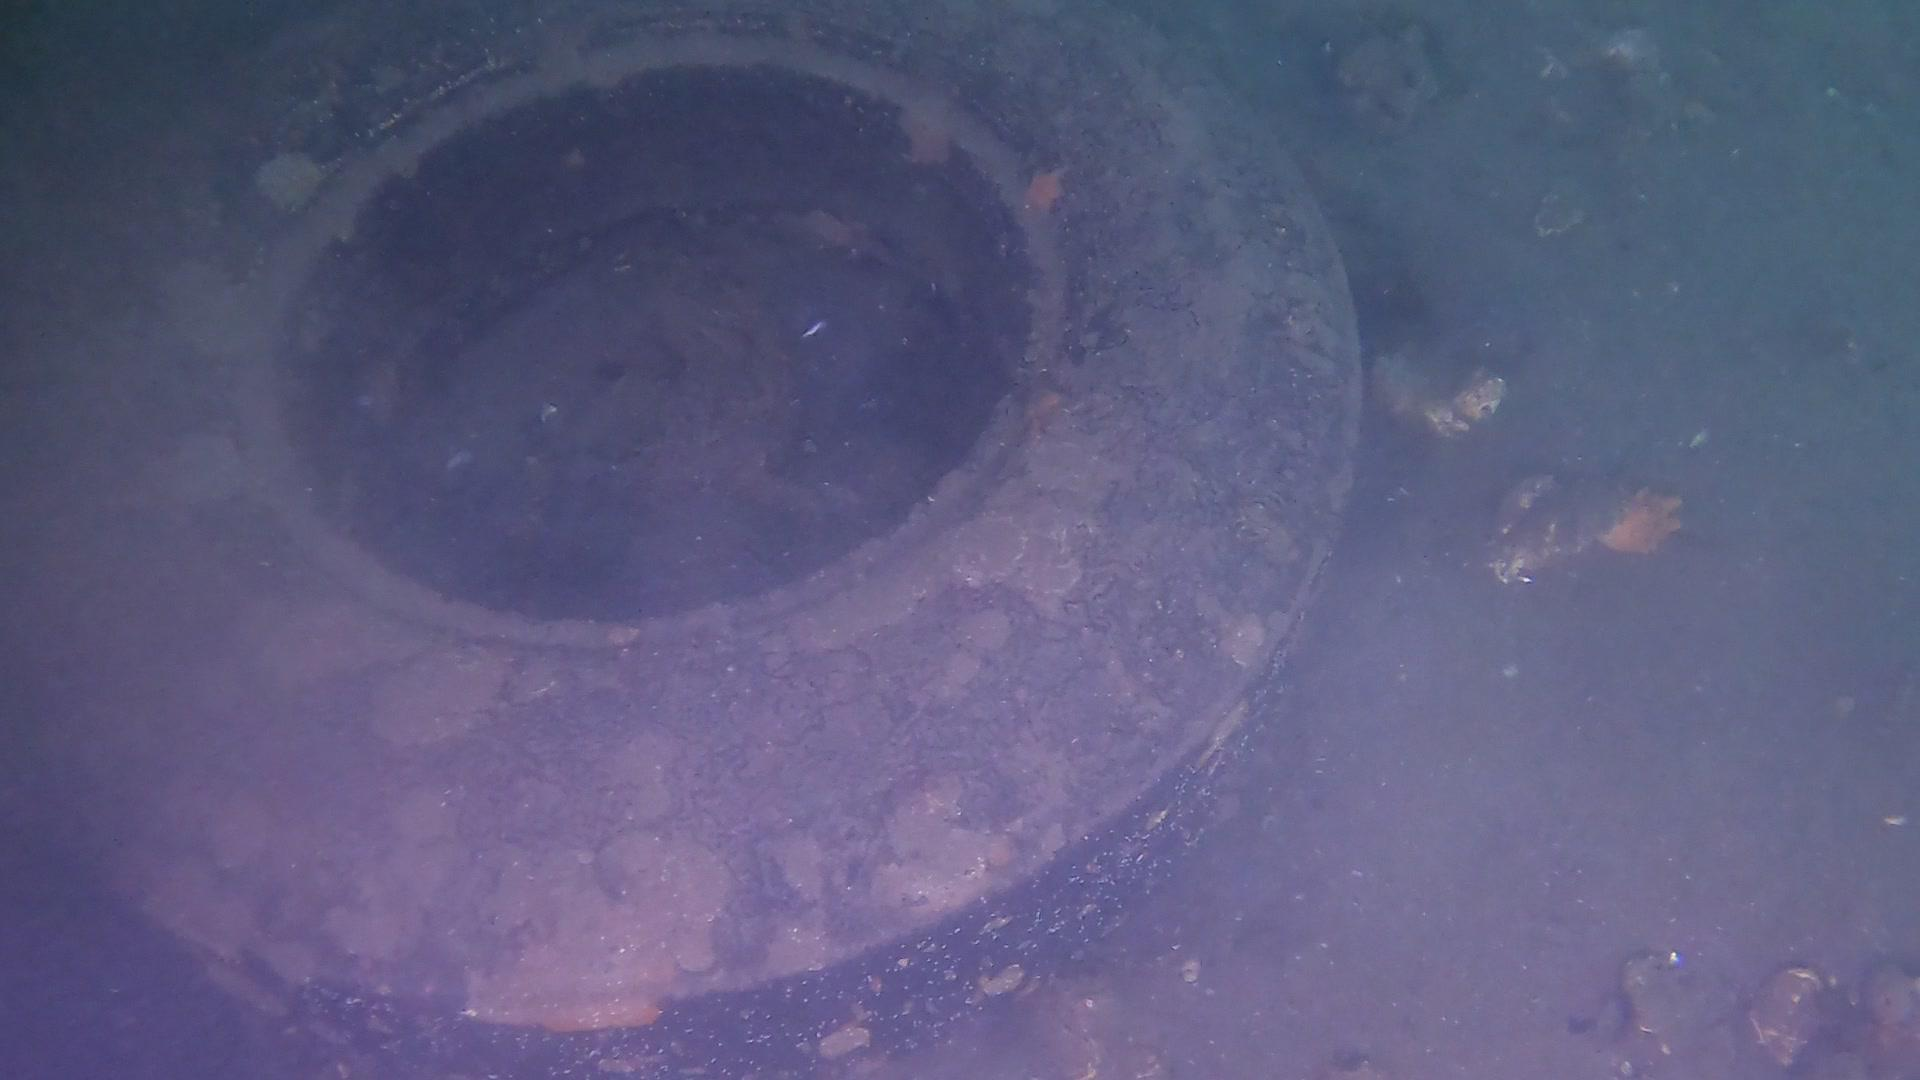tire: (0, 0, 1360, 1080)
